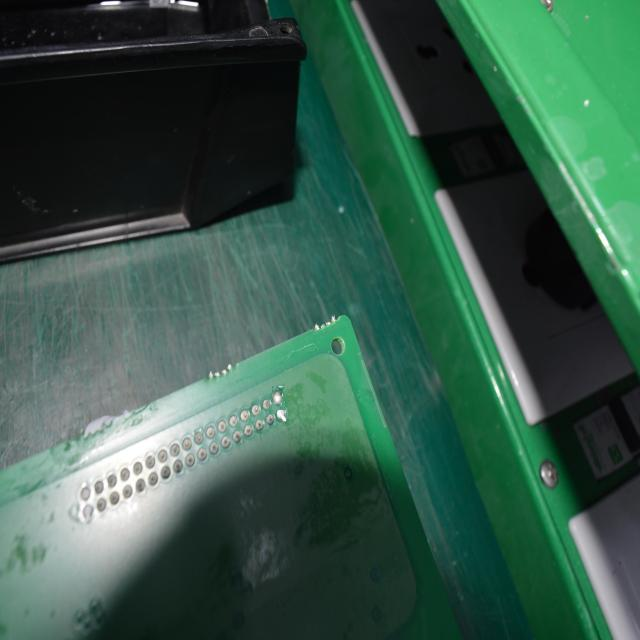slug: (272, 386, 284, 410)
